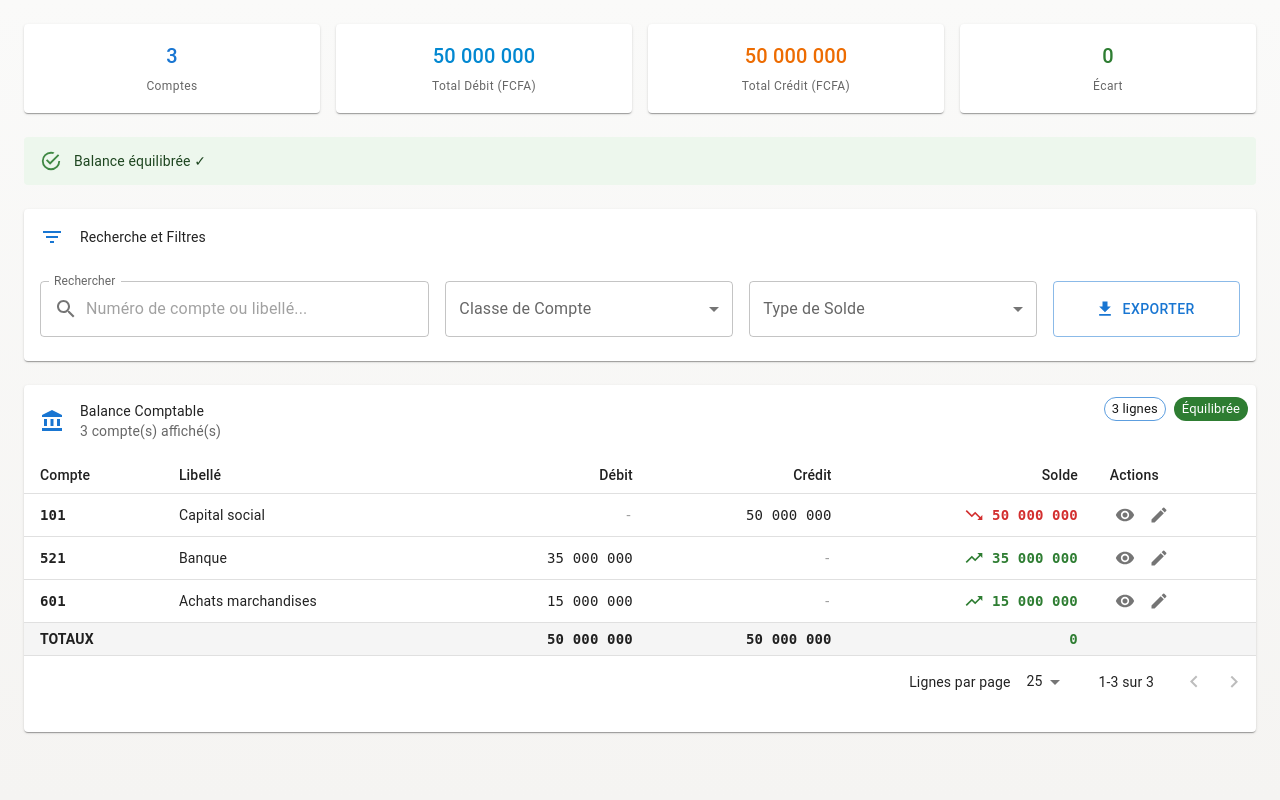
Scenario: BalanceConsultation › ouvre la modal d'édition
Click the button named "Modifier" in the row of "101" at (1159, 515), box x1=1144 y1=500 x2=1174 y2=530
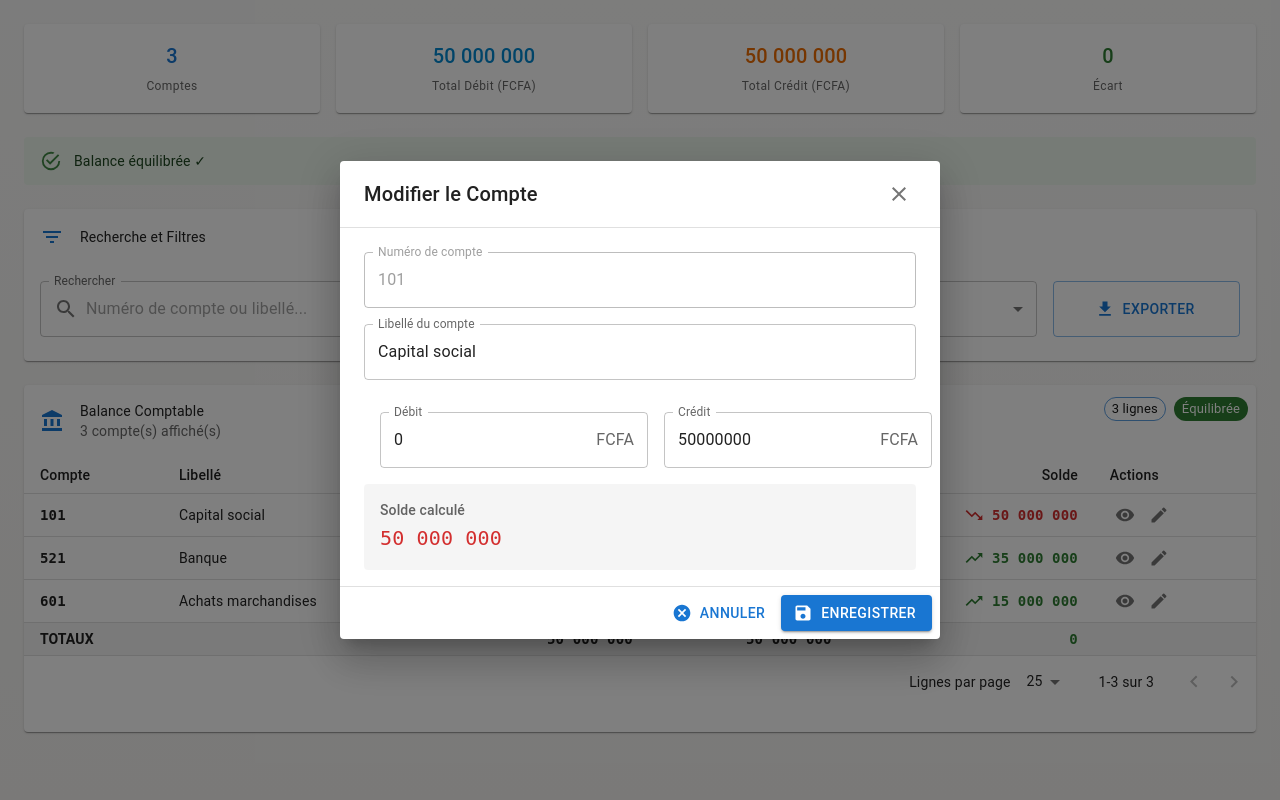
Result: the heading "Modifier le Compte" is shown at x1=364 y1=178 x2=538 y2=210
